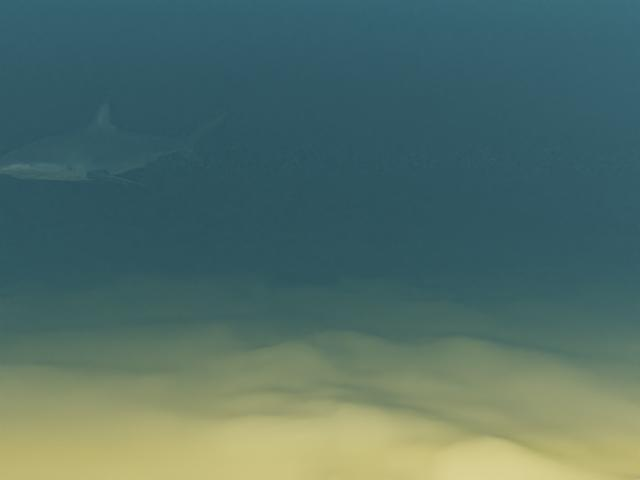Carribean Shark.001: (0, 97, 240, 186)
